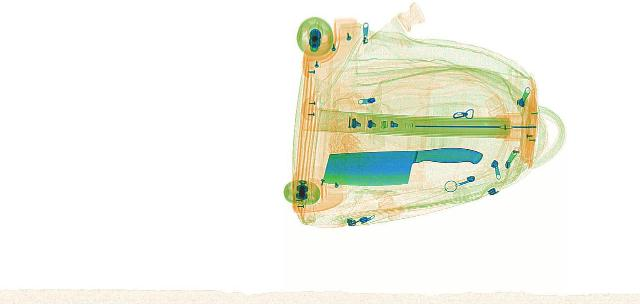Knife: (322, 145, 482, 183)
